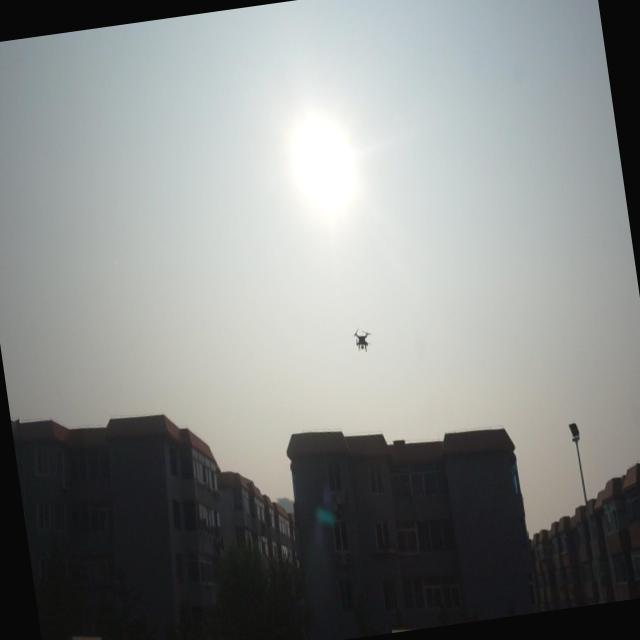drone: (350, 326, 374, 354)
